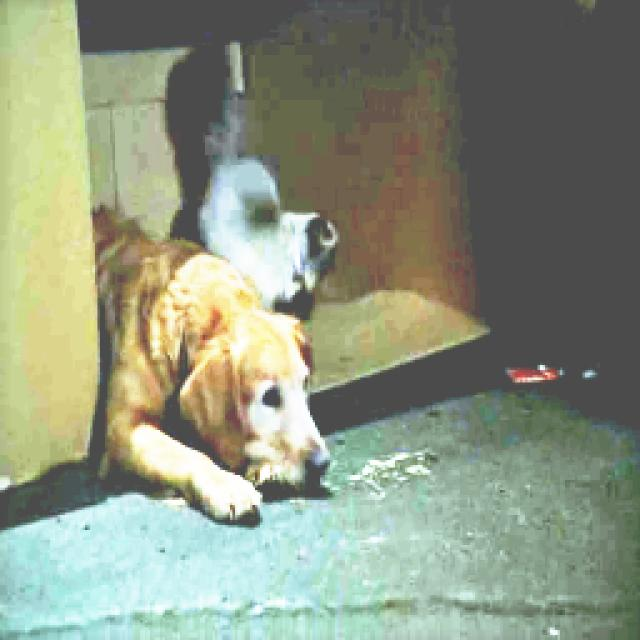cat: (166, 72, 364, 324)
